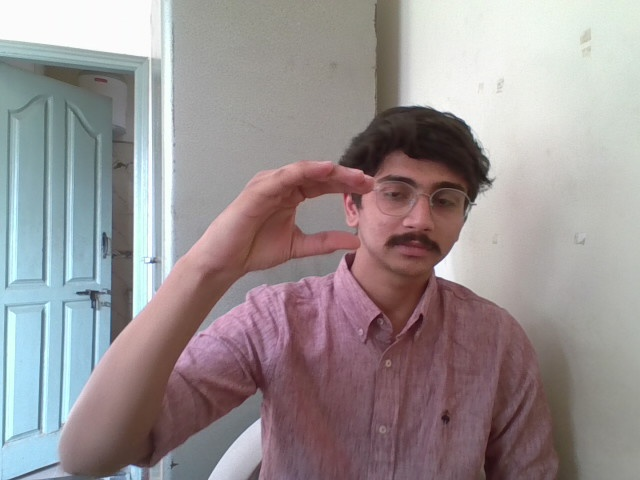no: (178, 156, 383, 268)
